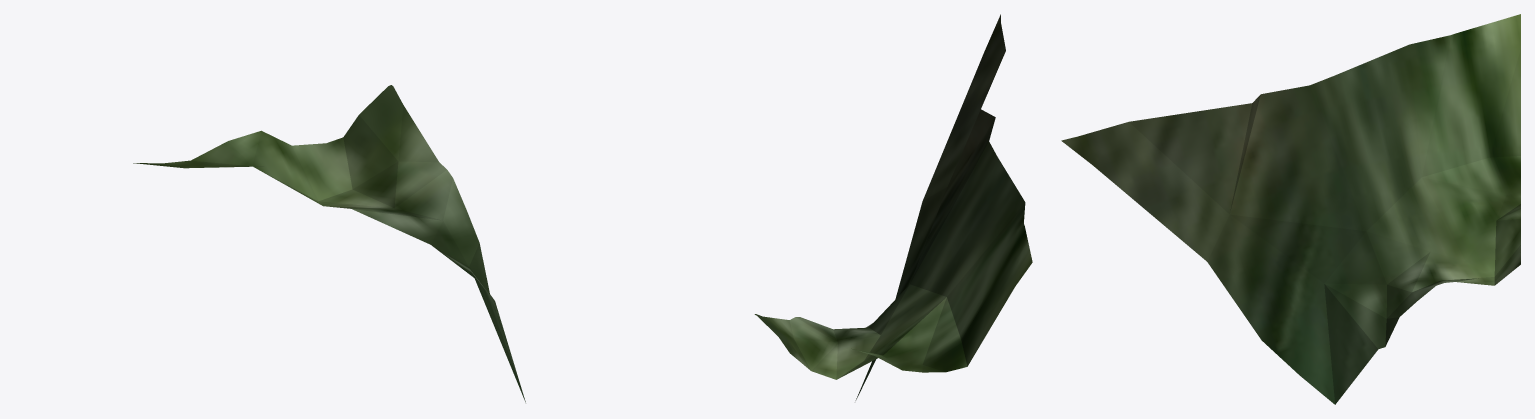
3 views of the same model, side by side, from view 1: azimuth 30°, elevation 25°; view 2: azimuth 150°, elevation 25°; view 3: azimuth 270°, elevation 25° (orthographic). The views are drawn at different scales.
Size of the model in its own units: 0.8595 by 0.8362 by 1.32.
Materials: 1 (1 with a texture image).
